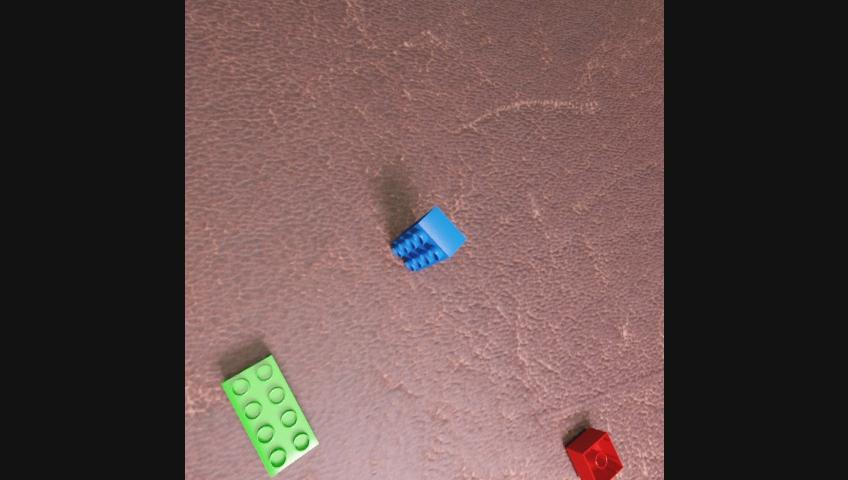2x2_red: (566, 427, 623, 480)
4x2_blue: (388, 207, 464, 272)
4x2_green: (221, 353, 318, 476)
